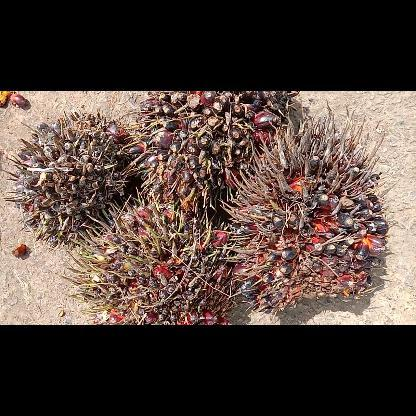TBS abnormal: (235, 110, 391, 306), (86, 196, 236, 324), (137, 92, 299, 202), (16, 110, 141, 242)
